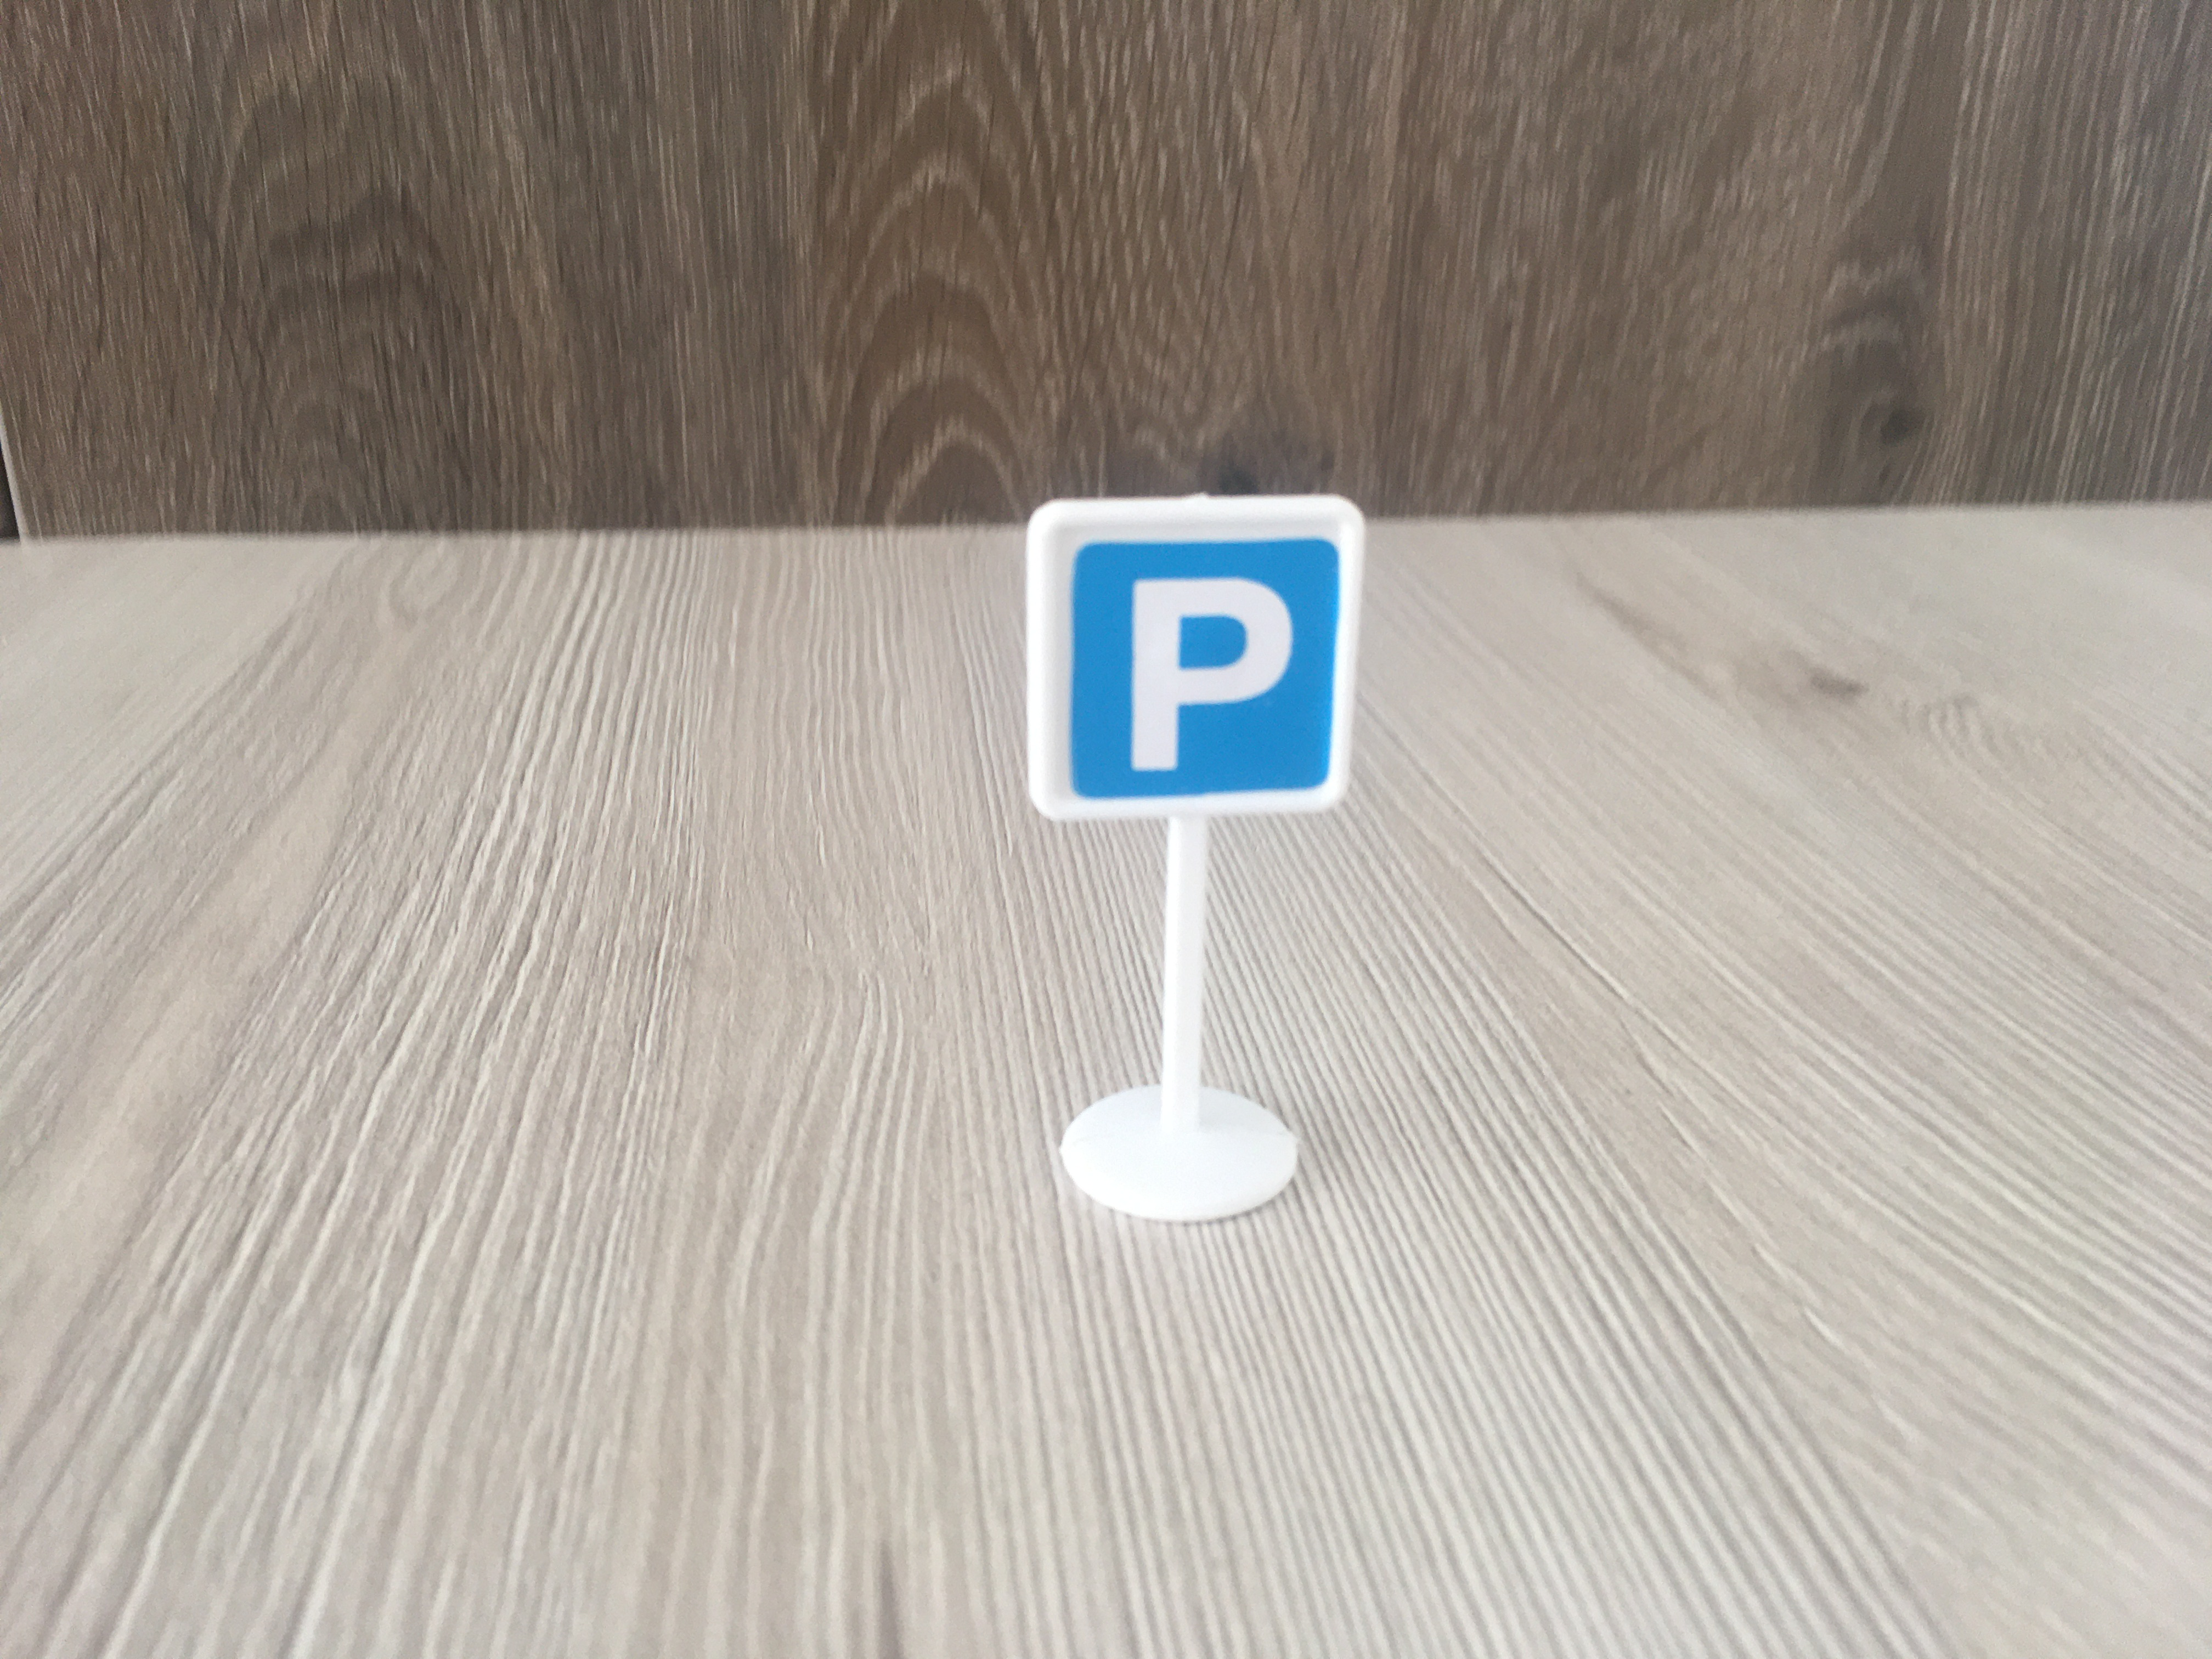parking: (1015, 495, 1364, 821)
